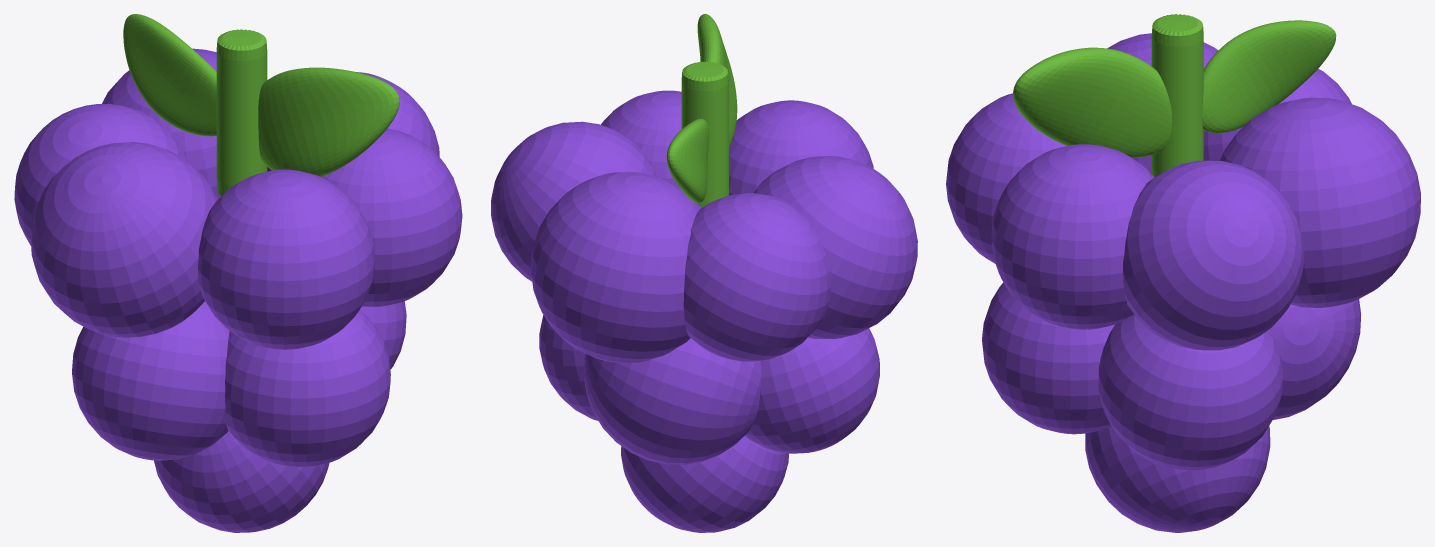
Rendered from raisin.glb.
3 renders of one model, left to right at view 1: azimuth 30°, elevation 25°; view 2: azimuth 150°, elevation 25°; view 3: azimuth 270°, elevation 25°, orthographic. The views are drawn at different scales.
Visible parts, largest first — view 1: raisin; view 2: raisin; view 3: raisin.
Part boxes in pixels (box(x1,y1,x2,y2)): raisin: box(14, 14, 462, 532); raisin: box(491, 14, 917, 532); raisin: box(946, 14, 1420, 532).
Bounding box in the file's own units: 0.0844 × 0.0964 × 0.0826.
